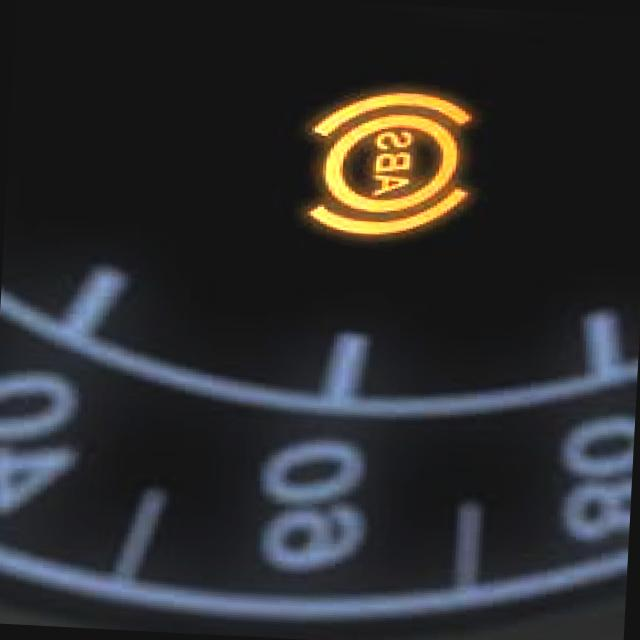kontrolka: (284, 75, 496, 252)
